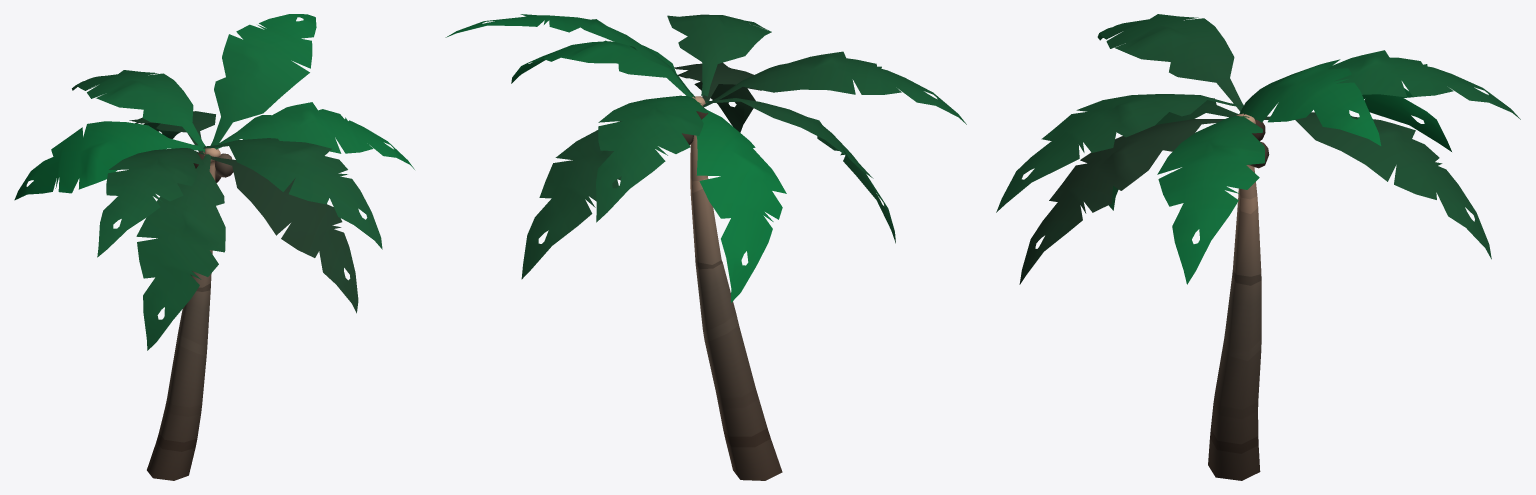
Rendered from PalmTree_02.fbx.
The picture shows the model from 3 angles, left to right: view 1: azimuth 30°, elevation 25°; view 2: azimuth 150°, elevation 25°; view 3: azimuth 270°, elevation 25°; orthographic projection. The views are drawn at different scales.
Visible parts, largest first — view 1: Cylinder.190; view 2: Cylinder.190; view 3: Cylinder.190.
Boxes of the visible parts, left/top/right/bottom form: Cylinder.190: left=14, top=14, right=414, bottom=480; Cylinder.190: left=445, top=14, right=966, bottom=480; Cylinder.190: left=996, top=14, right=1520, bottom=480.
Size of the model in its own units: 428 by 444 by 446.
